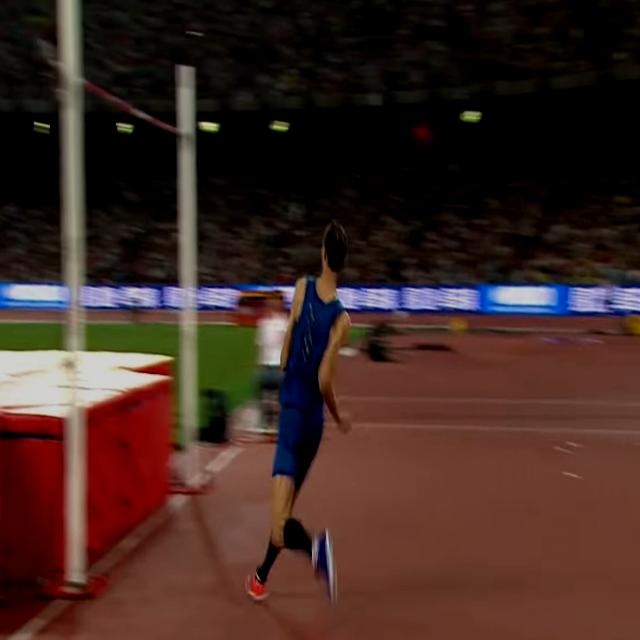run: (244, 217, 352, 601)
